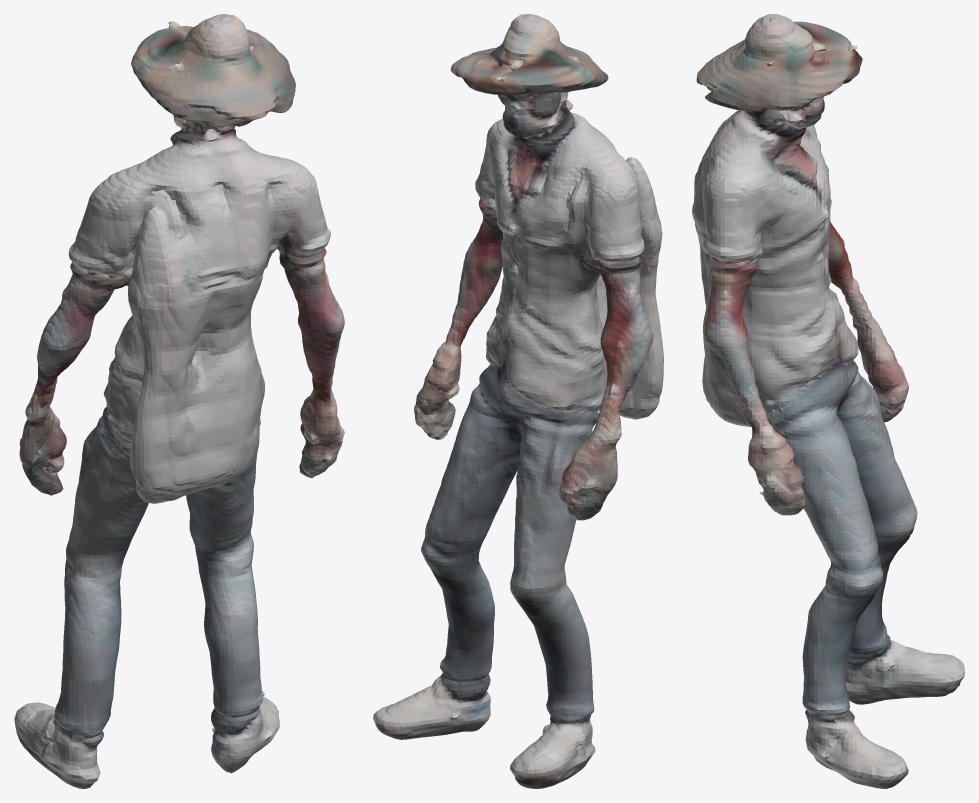
The model's file is zombie_tripo.glb.
3 renders of one model, left to right at view 1: azimuth 30°, elevation 25°; view 2: azimuth 150°, elevation 25°; view 3: azimuth 270°, elevation 25°, orthographic. The views are drawn at different scales.
Size of the model in its own units: 0.3496 by 0.9457 by 0.3196.
